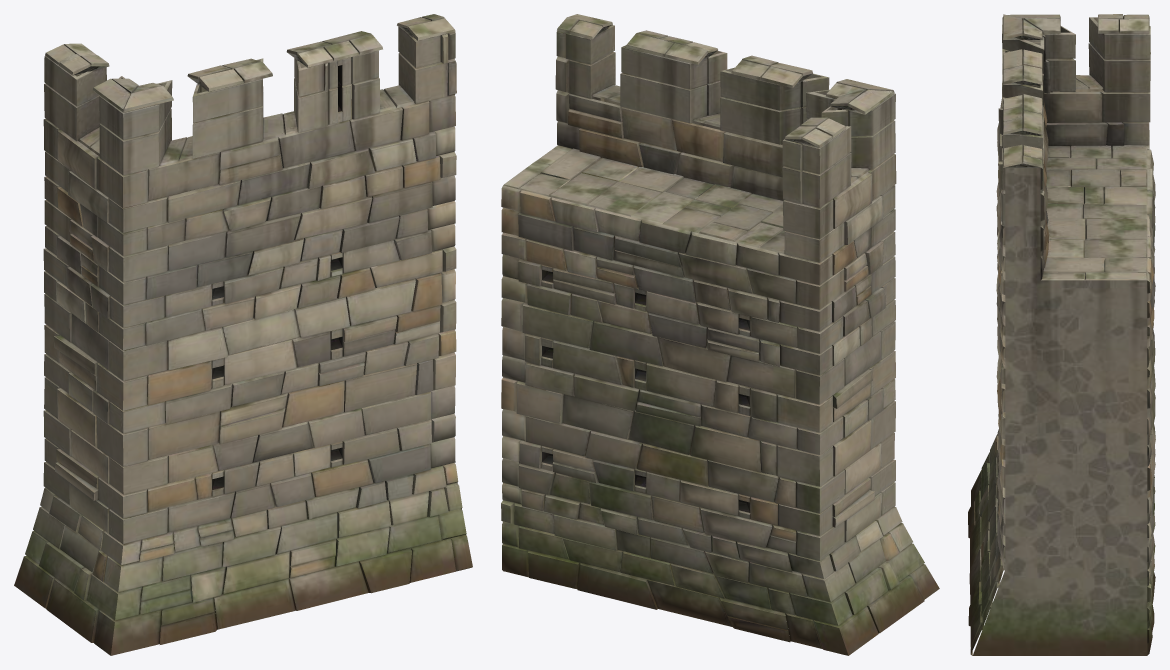
File: wall_stone_end_l.glb
3 views of the same model, side by side, from view 1: azimuth 30°, elevation 25°; view 2: azimuth 150°, elevation 25°; view 3: azimuth 270°, elevation 25° (orthographic). The views are drawn at different scales.
Parts seen in each view (by area): view 1: wall_stone_end_l_LOD0; view 2: wall_stone_end_l_LOD0; view 3: wall_stone_end_l_LOD0.
Part boxes in pixels (<box>): wall_stone_end_l_LOD0: <box>14,14,472,655</box>; wall_stone_end_l_LOD0: <box>501,14,939,655</box>; wall_stone_end_l_LOD0: <box>968,14,1155,655</box>.
Size of what is drawn, in the model's own units: 6.61 by 9.23 by 3.17.
1 material, 1 textured.
